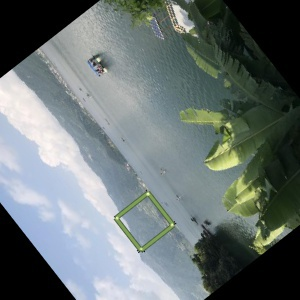square: (113, 191, 177, 253)
